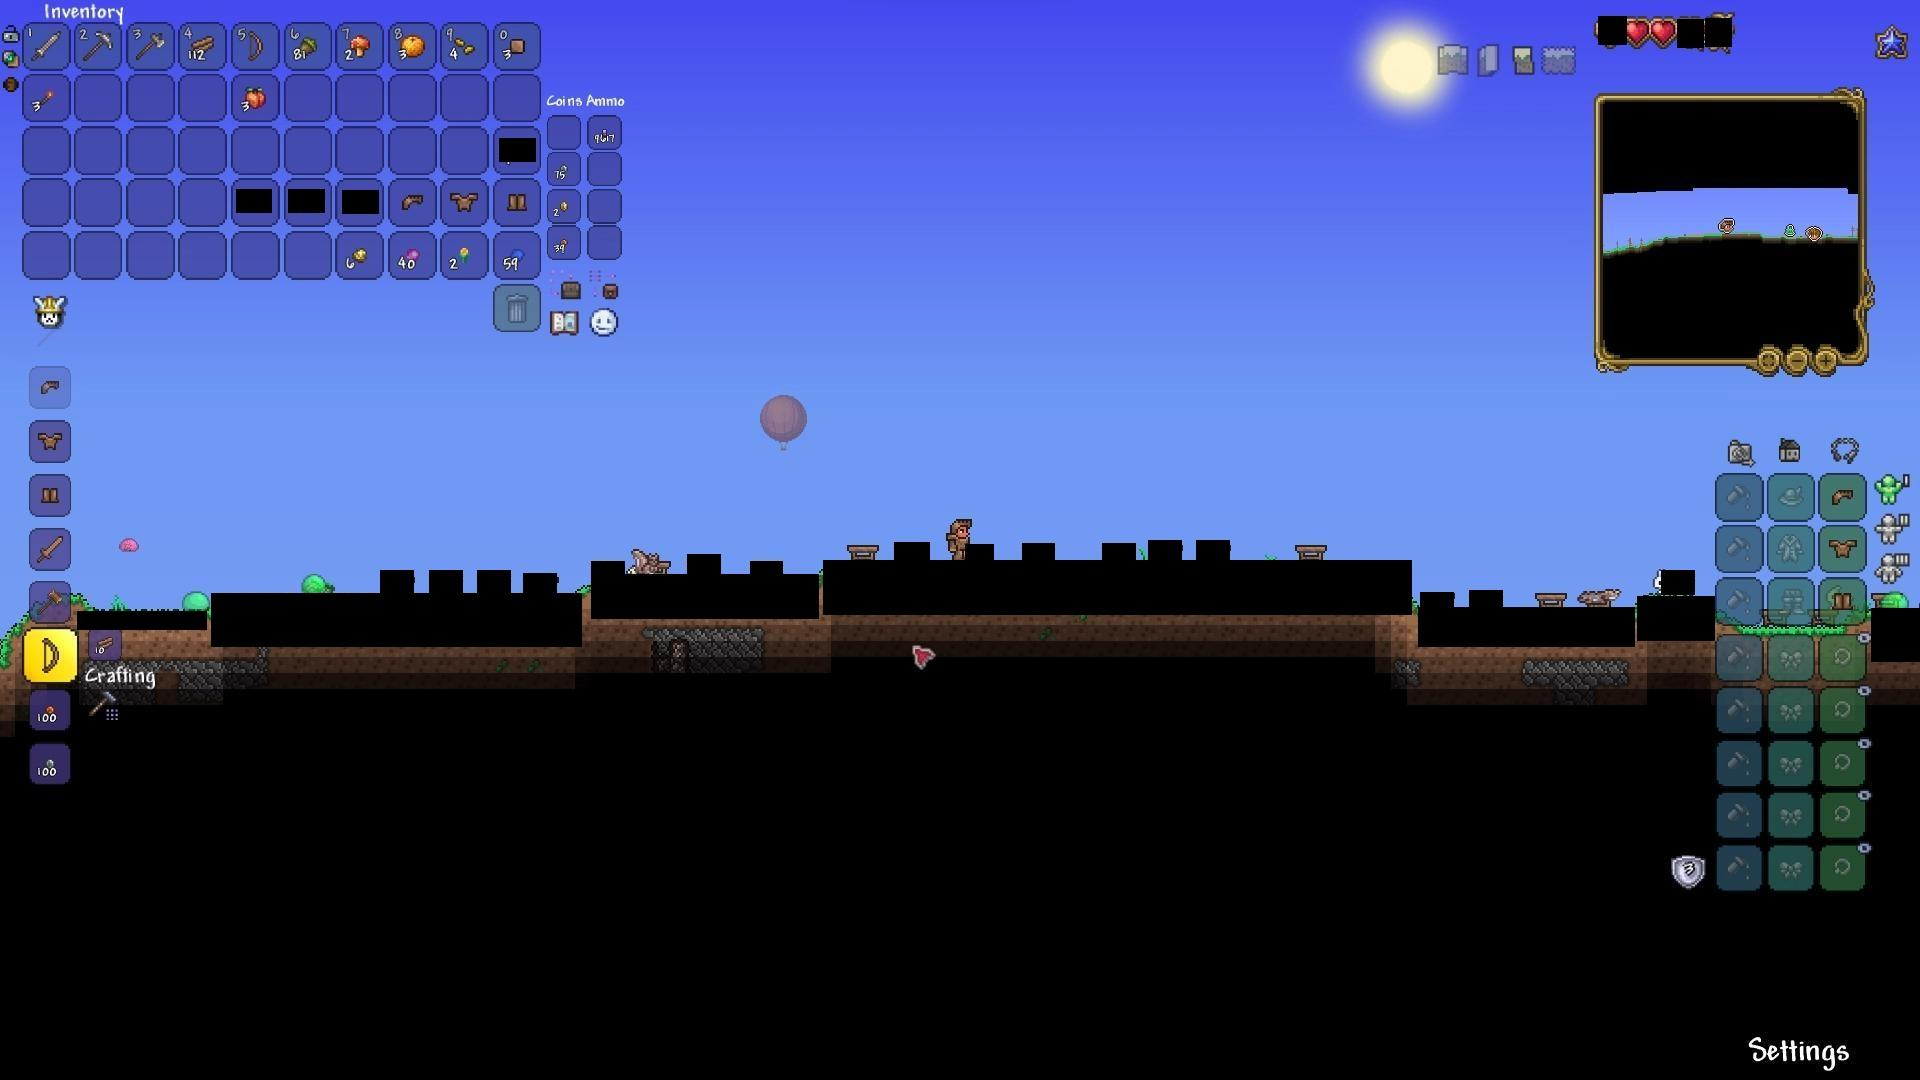breastplate: (36, 429, 65, 450), (1830, 537, 1859, 558), (448, 190, 477, 210)
heart: (1626, 18, 1654, 47), (1650, 18, 1677, 47)
helmet: (33, 373, 66, 402), (1828, 484, 1857, 510), (400, 189, 429, 214)
legs: (1832, 588, 1858, 616), (37, 483, 65, 509), (505, 186, 530, 214)
slime: (182, 585, 215, 615), (1878, 585, 1909, 615), (298, 566, 330, 593), (117, 530, 149, 558)
wood: (90, 630, 119, 657), (189, 34, 218, 59)
workbench: (844, 545, 881, 570), (1531, 589, 1564, 613), (1294, 542, 1327, 566)
